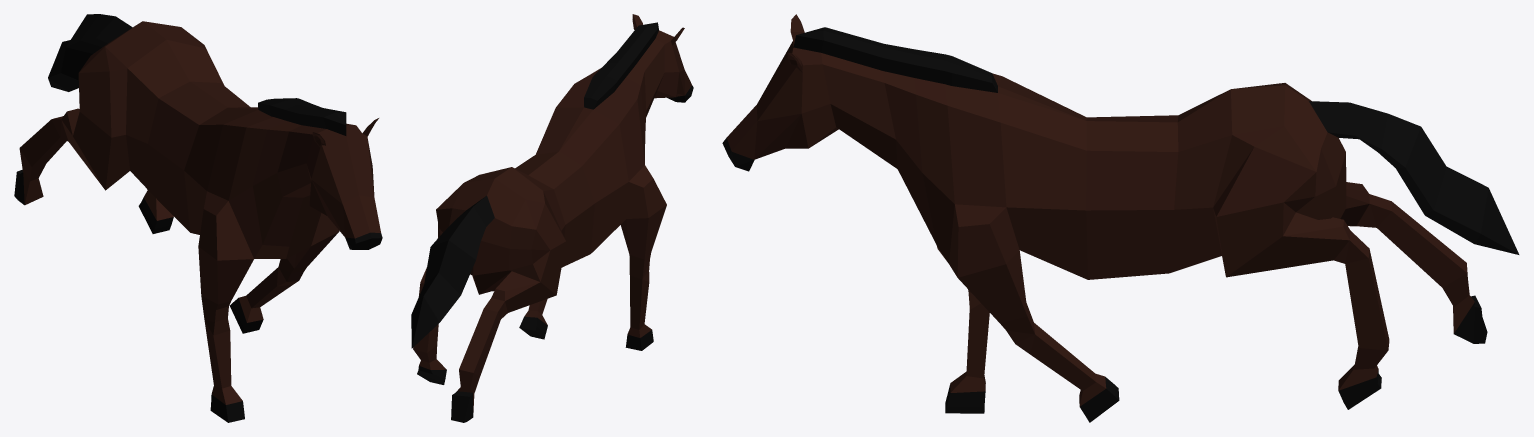
Rendered from Horse_000018.obj.
3 renders of one model, left to right at view 1: azimuth 30°, elevation 25°; view 2: azimuth 150°, elevation 25°; view 3: azimuth 270°, elevation 25°, orthographic. The views are drawn at different scales.
Visible parts, largest first — view 1: Horse_Cylinder; view 2: Horse_Cylinder; view 3: Horse_Cylinder.
Part boxes in pixels (x1,y1,x2,y2): Horse_Cylinder: (14,14,382,422); Horse_Cylinder: (411,14,693,422); Horse_Cylinder: (722,14,1519,422).
Bounding box in the file's own units: 2.6 × 6.05 × 10.75.
